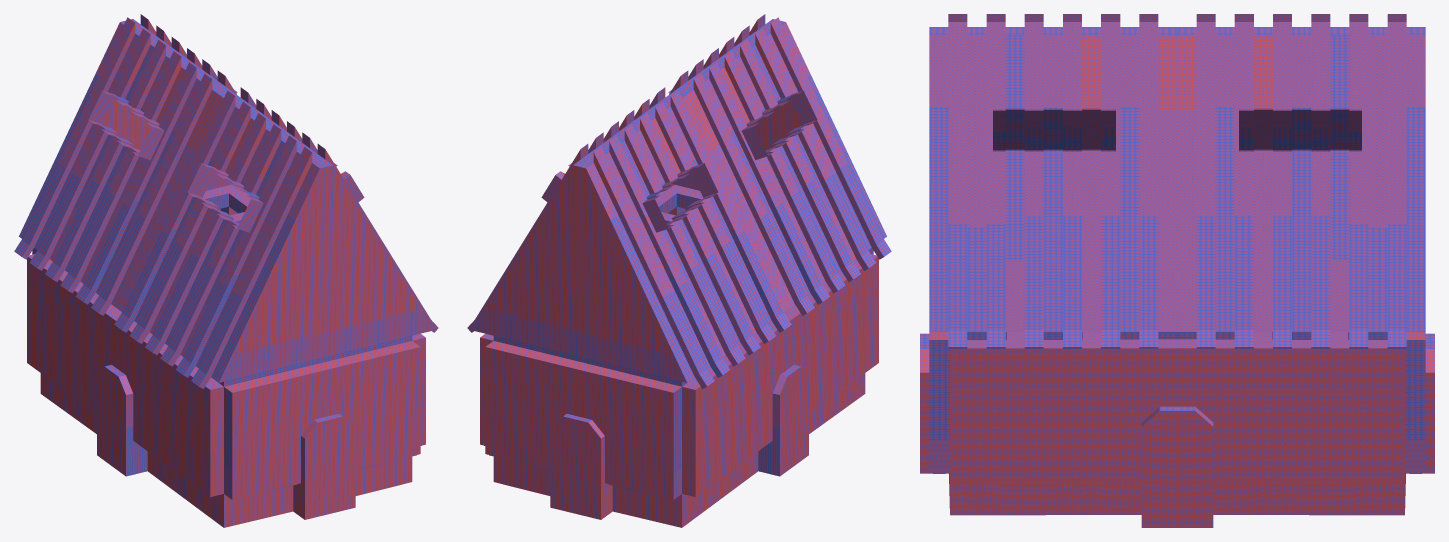
File: bottomRails.fbx
The picture shows the model from 3 angles, left to right: view 1: azimuth 30°, elevation 25°; view 2: azimuth 150°, elevation 25°; view 3: azimuth 270°, elevation 25°; orthographic projection. The views are drawn at different scales.
Parts seen in each view (by area): view 1: Hall; view 2: Hall; view 3: Hall.
Part boxes in pixels (x1,y1,x2,y2): Hall: [14, 14, 438, 527]; Hall: [467, 14, 891, 527]; Hall: [920, 14, 1434, 527].
Bounding box in the file's own units: 6629 × 9860 × 9920.
